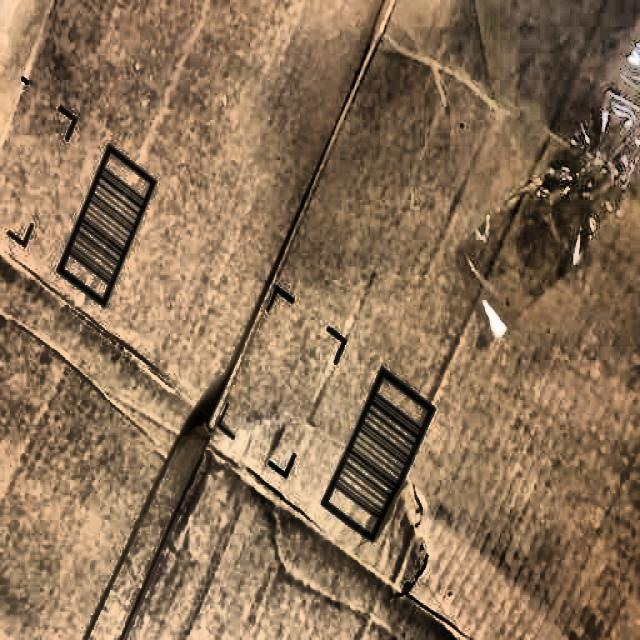cardboard: (5, 28, 591, 604)
